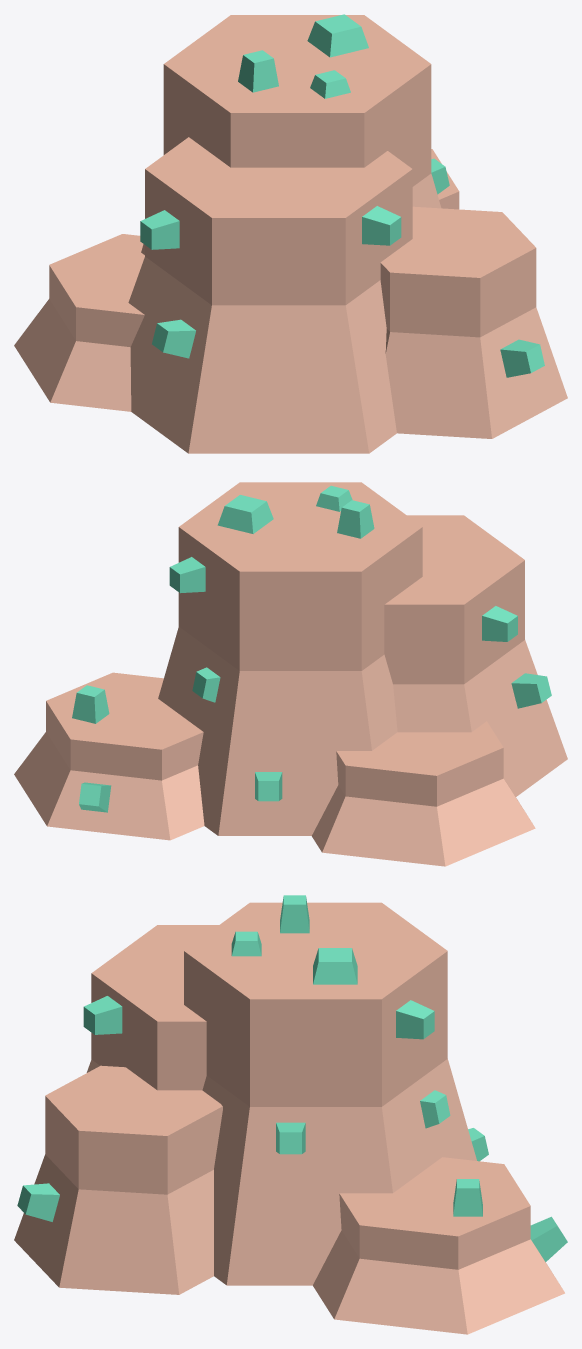
The model's file is rock_crystalsLargeB.glb.
The picture shows the model from 3 angles, top to bottom: view 1: azimuth 30°, elevation 25°; view 2: azimuth 150°, elevation 25°; view 3: azimuth 270°, elevation 25°; orthographic projection. The views are drawn at different scales.
Parts seen in each view (by area): view 1: rock_crystalsLargeB; view 2: rock_crystalsLargeB; view 3: rock_crystalsLargeB.
Part boxes in pixels (left/top/right/bottom): rock_crystalsLargeB: left=14, top=14, right=567, bottom=453; rock_crystalsLargeB: left=14, top=482, right=567, bottom=866; rock_crystalsLargeB: left=14, top=895, right=567, bottom=1334.
Size of the model in its own units: 0.9393 by 0.55 by 0.9321.
